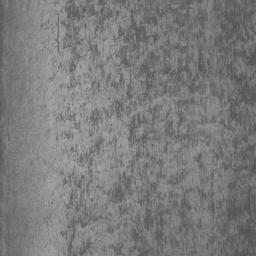Silk spot: (40, 0, 256, 256), (36, 151, 53, 173), (31, 172, 48, 193), (35, 213, 53, 232), (36, 36, 49, 61)
